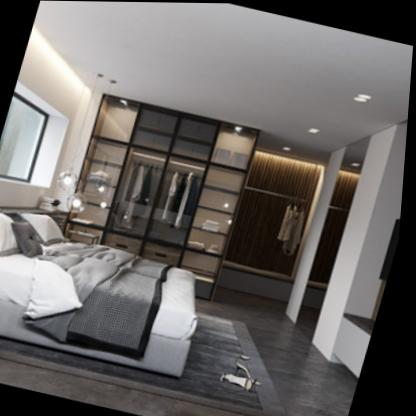Bed: (0, 197, 225, 382)
Transparent Closet: (61, 91, 264, 278)
Wall Panel: (219, 149, 369, 306)
